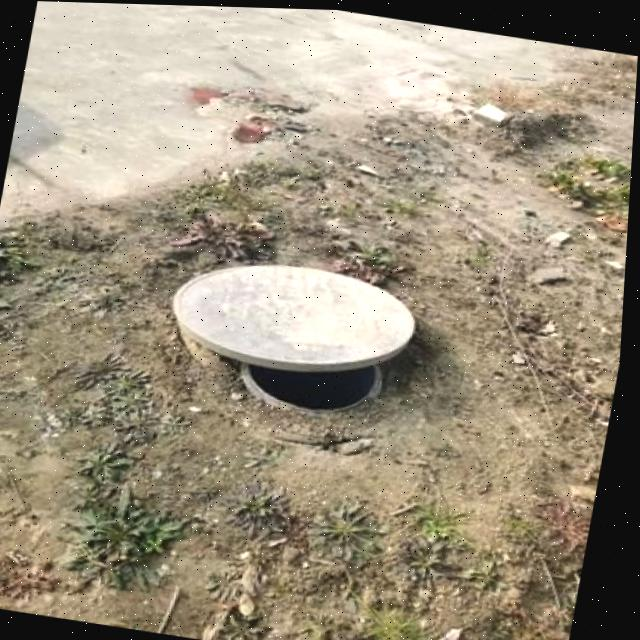manhole: (151, 238, 431, 427)
